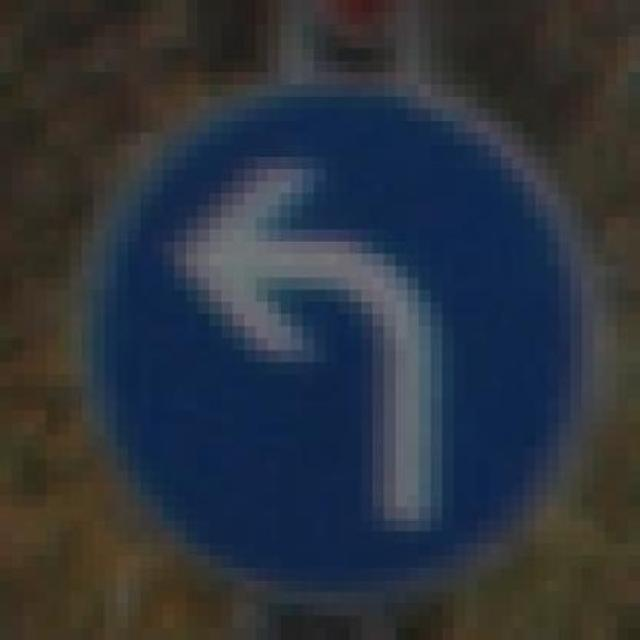Turn left ahead: (69, 60, 617, 592)
